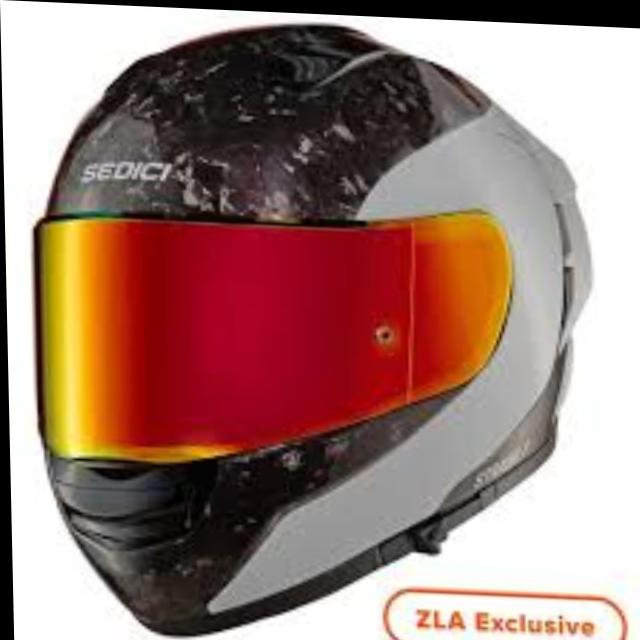motorcycle-helmets: (36, 26, 559, 639)
